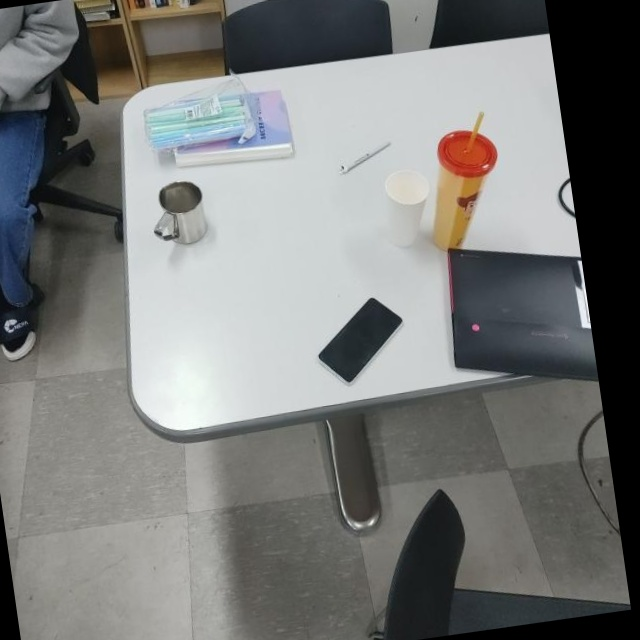cup: (147, 176, 212, 248)
phone: (313, 292, 412, 388)
